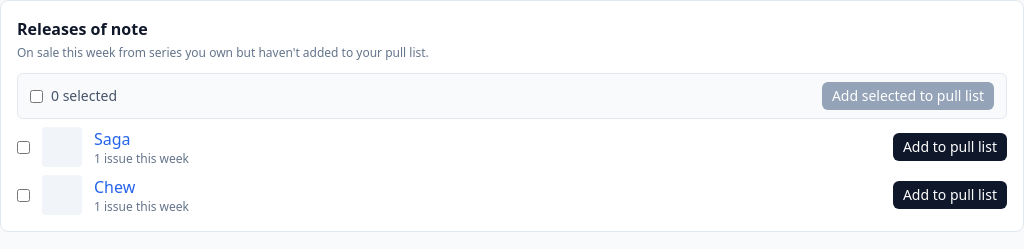
Test case: ReleasesOfNoteWidget › bulk-adds selected releases and badges them in place
What coordinates should you click on to do the following:
click the checkbox named "Select all releases of note"
I would click on:
 (36, 96)
Its box is x1=30 y1=90 x2=43 y2=102.
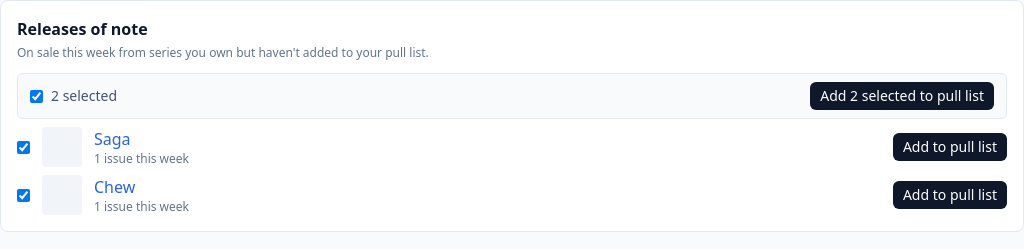
What coordinates should you click on to do the following:
click the button "Add 2 selected to pull list"
I would click on:
 (902, 96)
Its box is x1=810 y1=82 x2=994 y2=110.
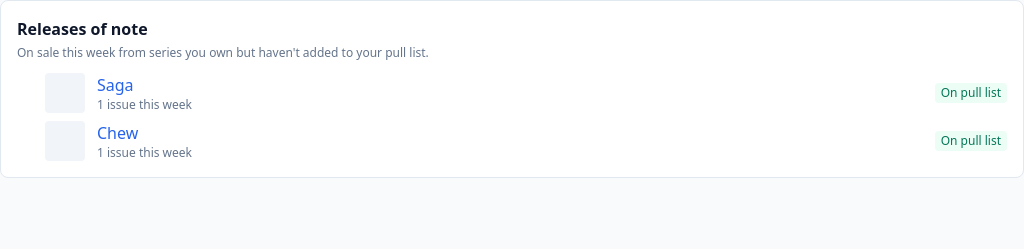
Expected: the text "On pull list" is shown 2 times, x1=935 y1=83 x2=1007 y2=103; x1=935 y1=131 x2=1007 y2=151
